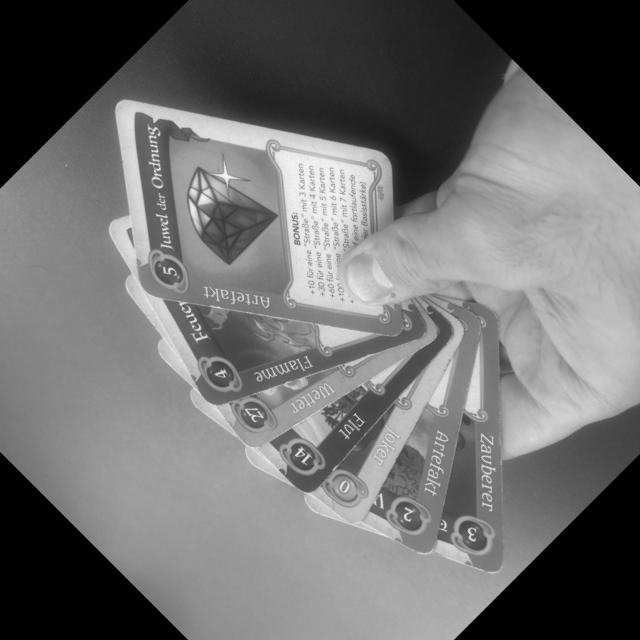Doppelganger: (312, 337, 463, 528)
Fire Elemental: (146, 297, 398, 404)
Gem Of Order: (110, 97, 401, 338)
Island: (256, 342, 447, 498)
Necromancer: (429, 316, 502, 577)
Smoke: (214, 339, 427, 451)
World Tree: (363, 330, 480, 558)
